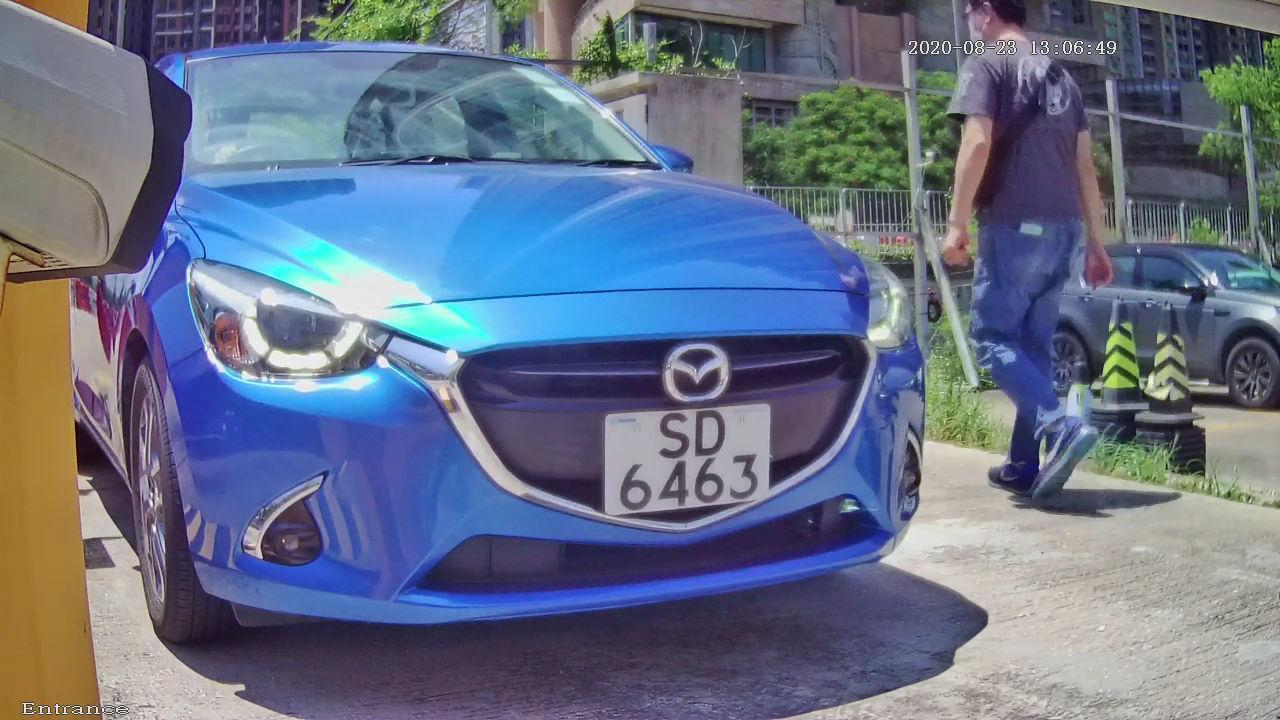Car: (46, 20, 972, 692)
License Plate: (589, 377, 778, 534)
